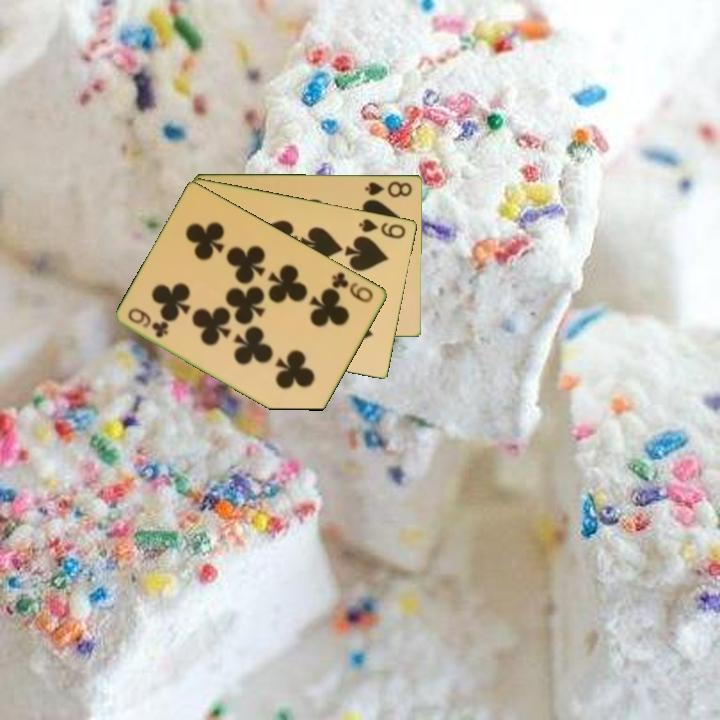8s: (362, 178, 415, 200)
9c: (328, 268, 377, 306), (124, 304, 172, 341)
9s: (355, 215, 409, 241)
